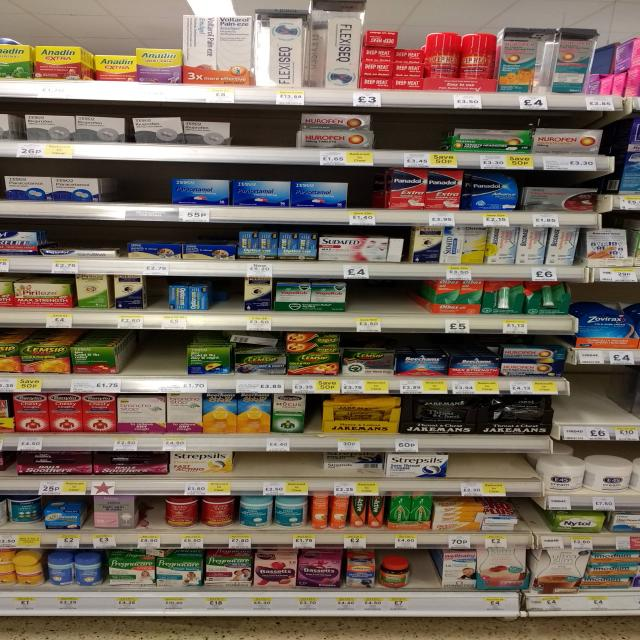unorganised: (465, 171, 522, 208), (128, 118, 185, 145), (326, 451, 384, 474), (91, 53, 137, 82), (457, 127, 532, 143), (6, 496, 44, 527), (185, 119, 230, 145), (301, 112, 374, 128), (230, 331, 282, 350), (464, 227, 487, 265), (389, 238, 407, 264)
